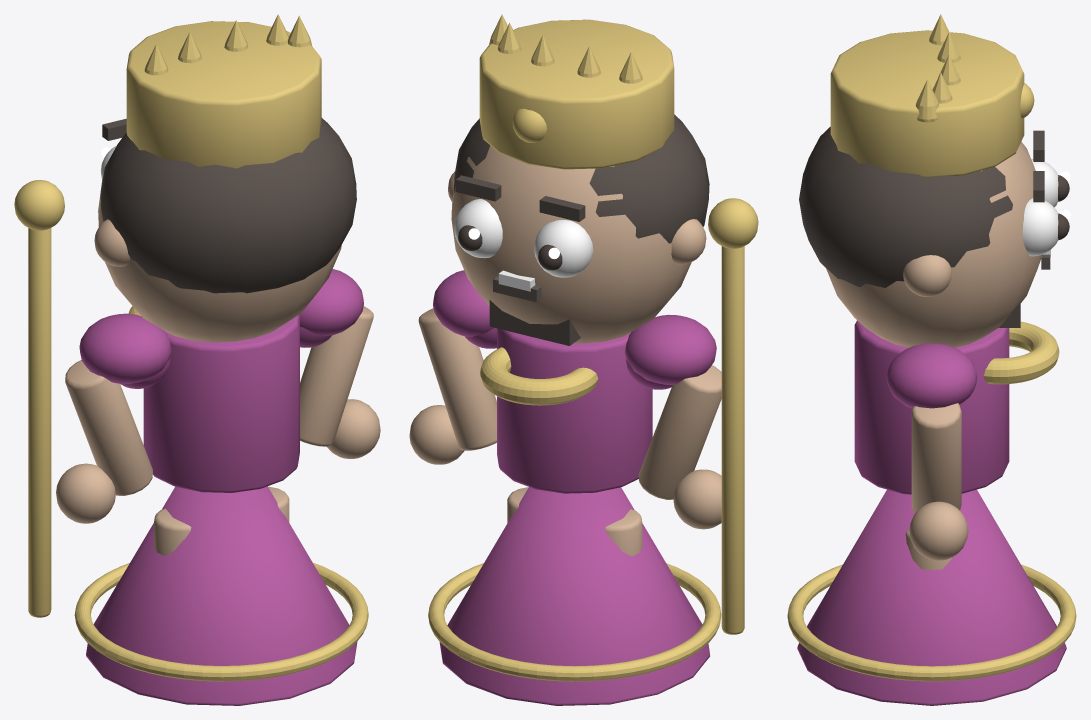
The model's file is king.glb.
3 views of the same model, side by side, from view 1: azimuth 30°, elevation 25°; view 2: azimuth 150°, elevation 25°; view 3: azimuth 270°, elevation 25° (orthographic).
Parts seen in each view (by area): view 1: GEO-king-robe, GEO-king-hair, GEO-king-mukut, GEO-king-torso, GEO-king-head, GEO-king-scepter, GEO-king-hem, GEO-king-arm, GEO-king-arm.001, GEO-king-pad, GEO-king-pad.001, GEO-king-hand (+4 smaller); view 2: GEO-king-robe, GEO-king-mukut, GEO-king-head, GEO-king-torso, GEO-king-hair, GEO-king-scepter, GEO-king-hem, GEO-king-arm, GEO-king-arm.001, GEO-king-pad, GEO-king-necklace, GEO-king-pad.001 (+12 smaller); view 3: GEO-king-robe, GEO-king-mukut, GEO-king-hair, GEO-king-head, GEO-king-torso, GEO-king-hem, GEO-king-arm.001, GEO-king-pad.001, GEO-king-necklace, GEO-king-hand.001, GEO-king-eye.001, GEO-king-ear.001 (+3 smaller).
Boxes of the visible parts, x1,y1,x2,y2 form: GEO-king-robe: (86, 486, 357, 705); GEO-king-hair: (100, 118, 356, 293); GEO-king-mukut: (126, 21, 321, 168); GEO-king-torso: (143, 314, 299, 492); GEO-king-head: (98, 178, 341, 342); GEO-king-scepter: (28, 228, 51, 617); GEO-king-hem: (74, 563, 368, 681); GEO-king-arm: (65, 360, 152, 495); GEO-king-arm.001: (300, 306, 373, 446); GEO-king-pad: (79, 313, 171, 383); GEO-king-pad.001: (299, 269, 363, 336); GEO-king-hand: (56, 463, 115, 523); GEO-king-robe: (439, 487, 709, 705); GEO-king-mukut: (479, 19, 674, 169); GEO-king-head: (451, 145, 691, 343); GEO-king-torso: (497, 328, 652, 493); GEO-king-hair: (454, 114, 709, 243); GEO-king-scepter: (721, 246, 744, 634); GEO-king-hem: (428, 563, 721, 681); GEO-king-arm: (638, 365, 721, 499); GEO-king-arm.001: (418, 308, 496, 450); GEO-king-pad: (625, 314, 716, 384); GEO-king-necklace: (480, 347, 598, 405); GEO-king-pad.001: (433, 270, 495, 337); GEO-king-robe: (797, 489, 1066, 705); GEO-king-mukut: (830, 30, 1024, 177); GEO-king-hair: (799, 126, 1012, 287); GEO-king-head: (826, 142, 1041, 347); GEO-king-torso: (854, 320, 1009, 494); GEO-king-hem: (787, 564, 1076, 681); GEO-king-arm.001: (911, 403, 961, 513); GEO-king-pad.001: (886, 343, 977, 408); GEO-king-necklace: (984, 321, 1059, 384); GEO-king-hand.001: (909, 501, 968, 560); GEO-king-eye.001: (1022, 198, 1058, 256); GEO-king-ear.001: (903, 255, 951, 296).
Size of the model in its own units: 1.75 by 2.94 by 1.27.
